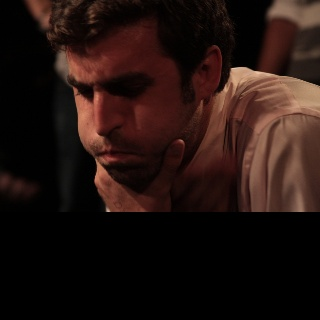without_mask: (45, 0, 239, 185)
